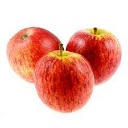apple: (6, 27, 64, 82)
